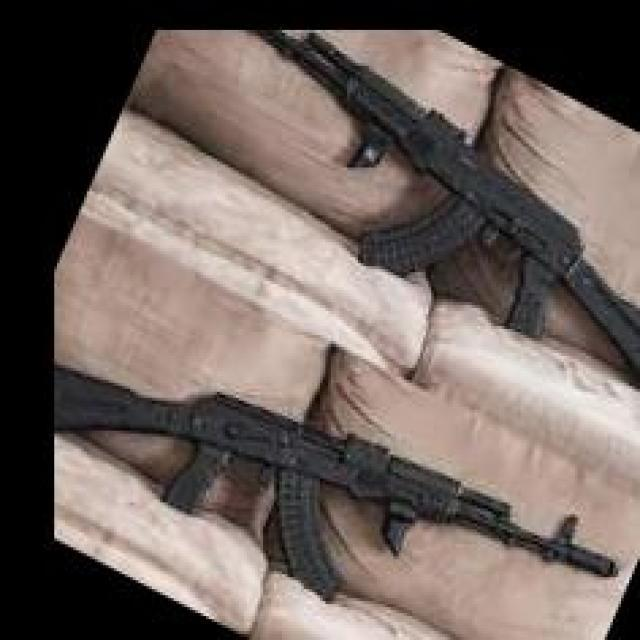weapon: (247, 28, 640, 390), (54, 358, 622, 604)
